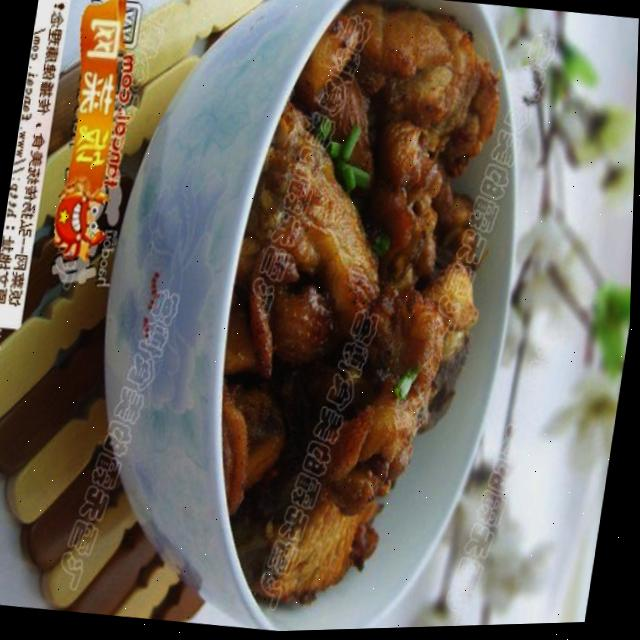鸡肉料理 含炸鸡: (30, 0, 595, 639)
